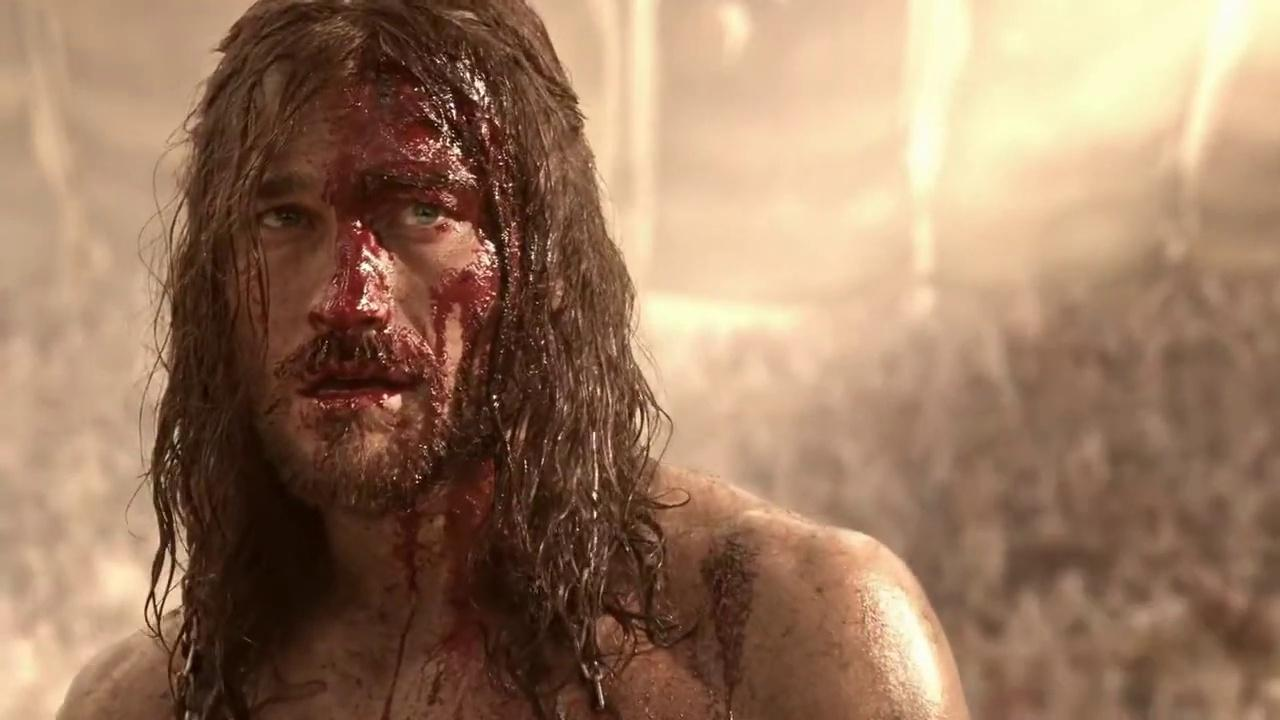Fire: (245, 81, 501, 512)
